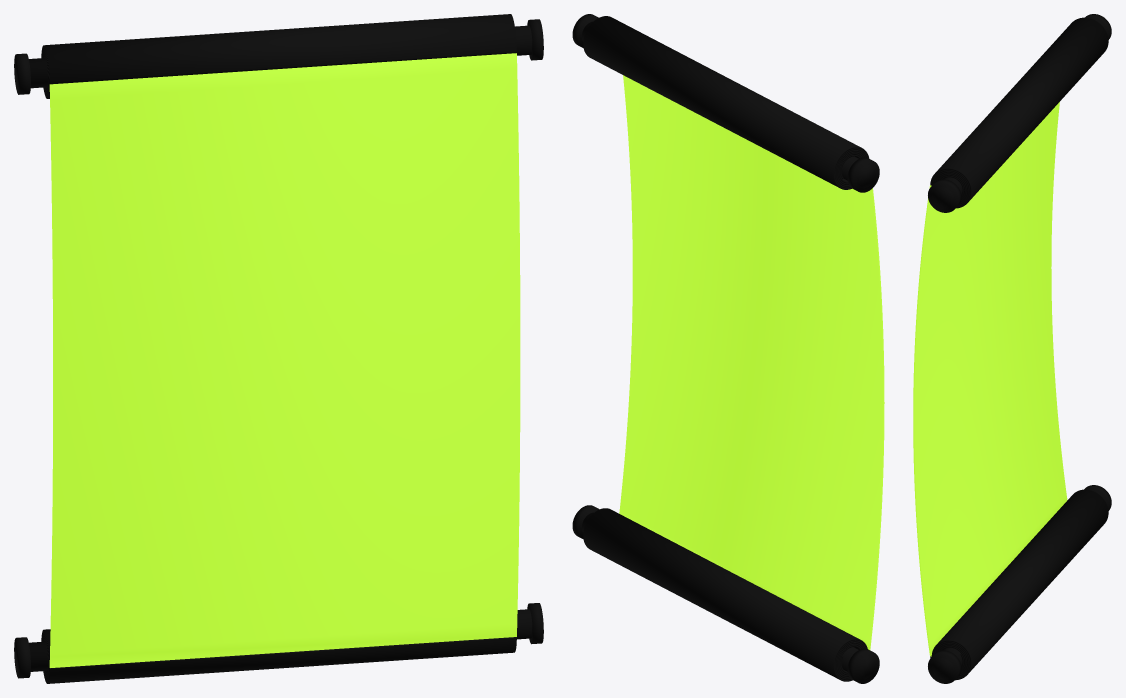
The picture shows the model from 3 angles, left to right: view 1: azimuth 30°, elevation 25°; view 2: azimuth 150°, elevation 25°; view 3: azimuth 270°, elevation 25°; orthographic projection. The views are drawn at different scales.
Visible parts, largest first — view 1: honshi, wound+1, wound-1, jiku+1, jiku-1; view 2: honshi, wound+1, wound-1, jiku-1, jiku+1; view 3: honshi, wound+1, wound-1, jiku-1, jiku+1.
Boxes of the visible parts, left/top/right/bottom form: honshi: left=49, top=53, right=520, bottom=667; wound+1: left=41, top=14, right=516, bottom=98; wound-1: left=41, top=629, right=516, bottom=683; jiku+1: left=14, top=19, right=543, bottom=94; jiku-1: left=14, top=603, right=543, bottom=678; honshi: left=619, top=75, right=884, bottom=649; wound+1: left=583, top=16, right=869, bottom=189; wound-1: left=583, top=508, right=867, bottom=681; jiku-1: left=572, top=505, right=879, bottom=683; jiku+1: left=572, top=14, right=879, bottom=192; honshi: left=913, top=102, right=1067, bottom=656; wound+1: left=930, top=17, right=1108, bottom=208; wound-1: left=930, top=489, right=1108, bottom=680; jiku-1: left=928, top=485, right=1111, bottom=683; jiku+1: left=928, top=14, right=1111, bottom=212.
Size of the model in its own units: 1.37 by 1.89 by 0.664.
